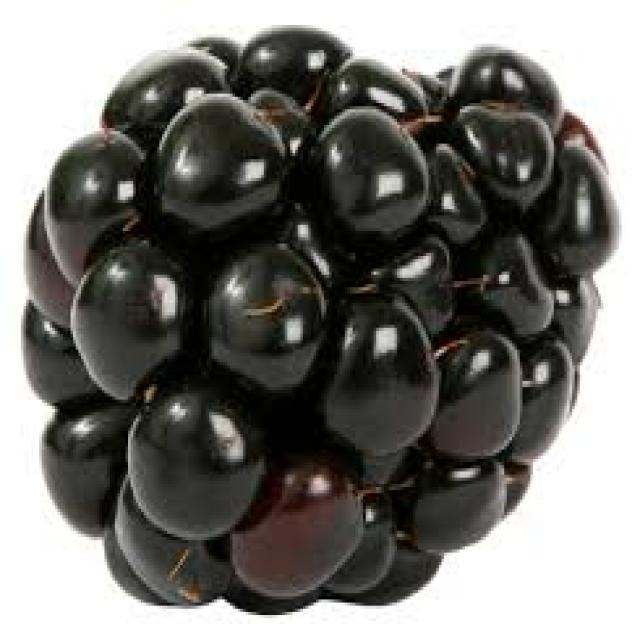organic waste: (16, 25, 611, 612)
